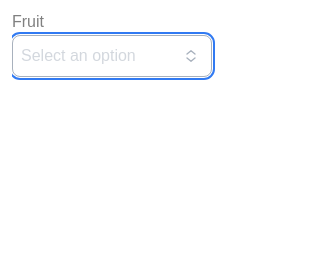
it: ListBox — search filtering › shows the 'No matches found' alert when nothing matches
Step 1. Press Arrowdown
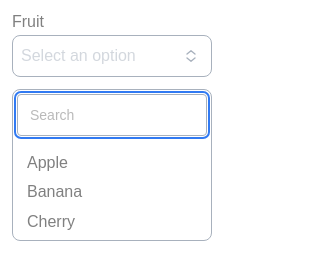
Step 2. Type "zzzzzzzz" into the field named "Search options" → (112, 115), box left=17, top=94, right=207, bottom=136
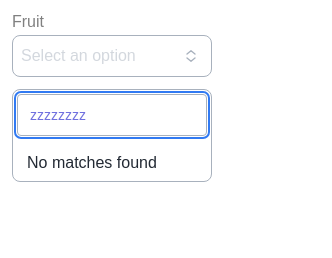
Now the message reads "No matches found", box left=27, top=154, right=157, bottom=171
Now the option is gone
